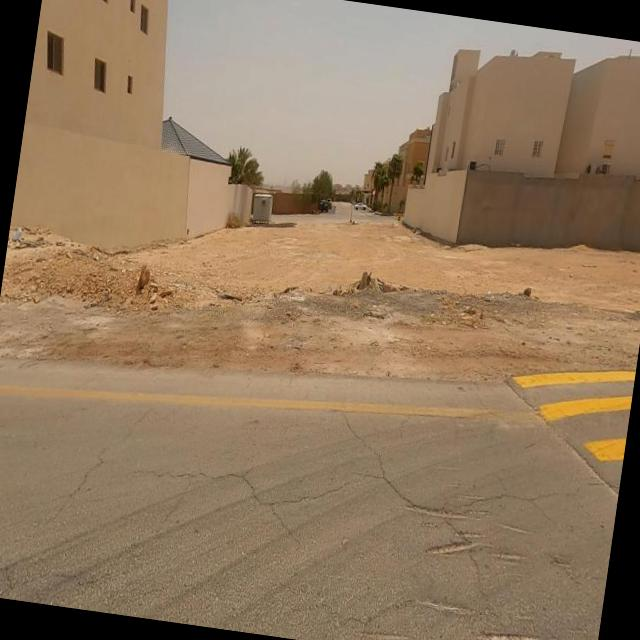debris: (324, 245, 422, 330), (2, 191, 64, 289)
